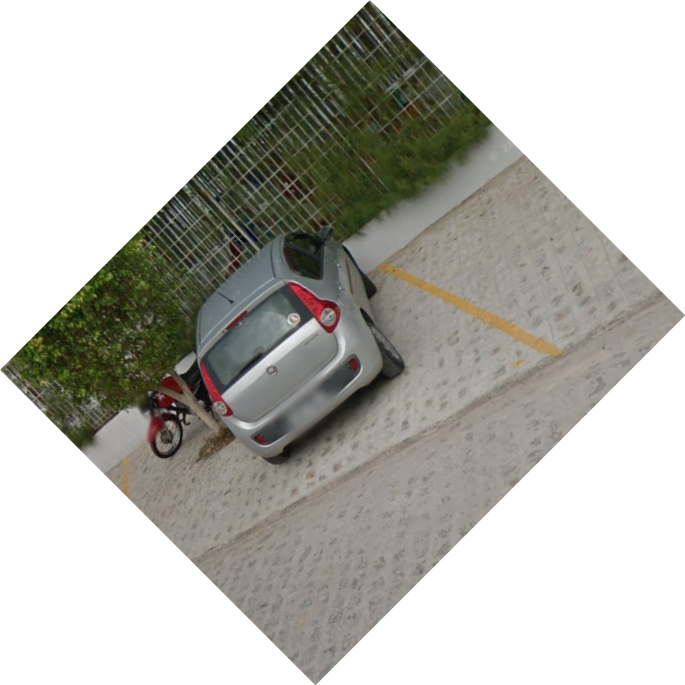car: (191, 223, 405, 469)
